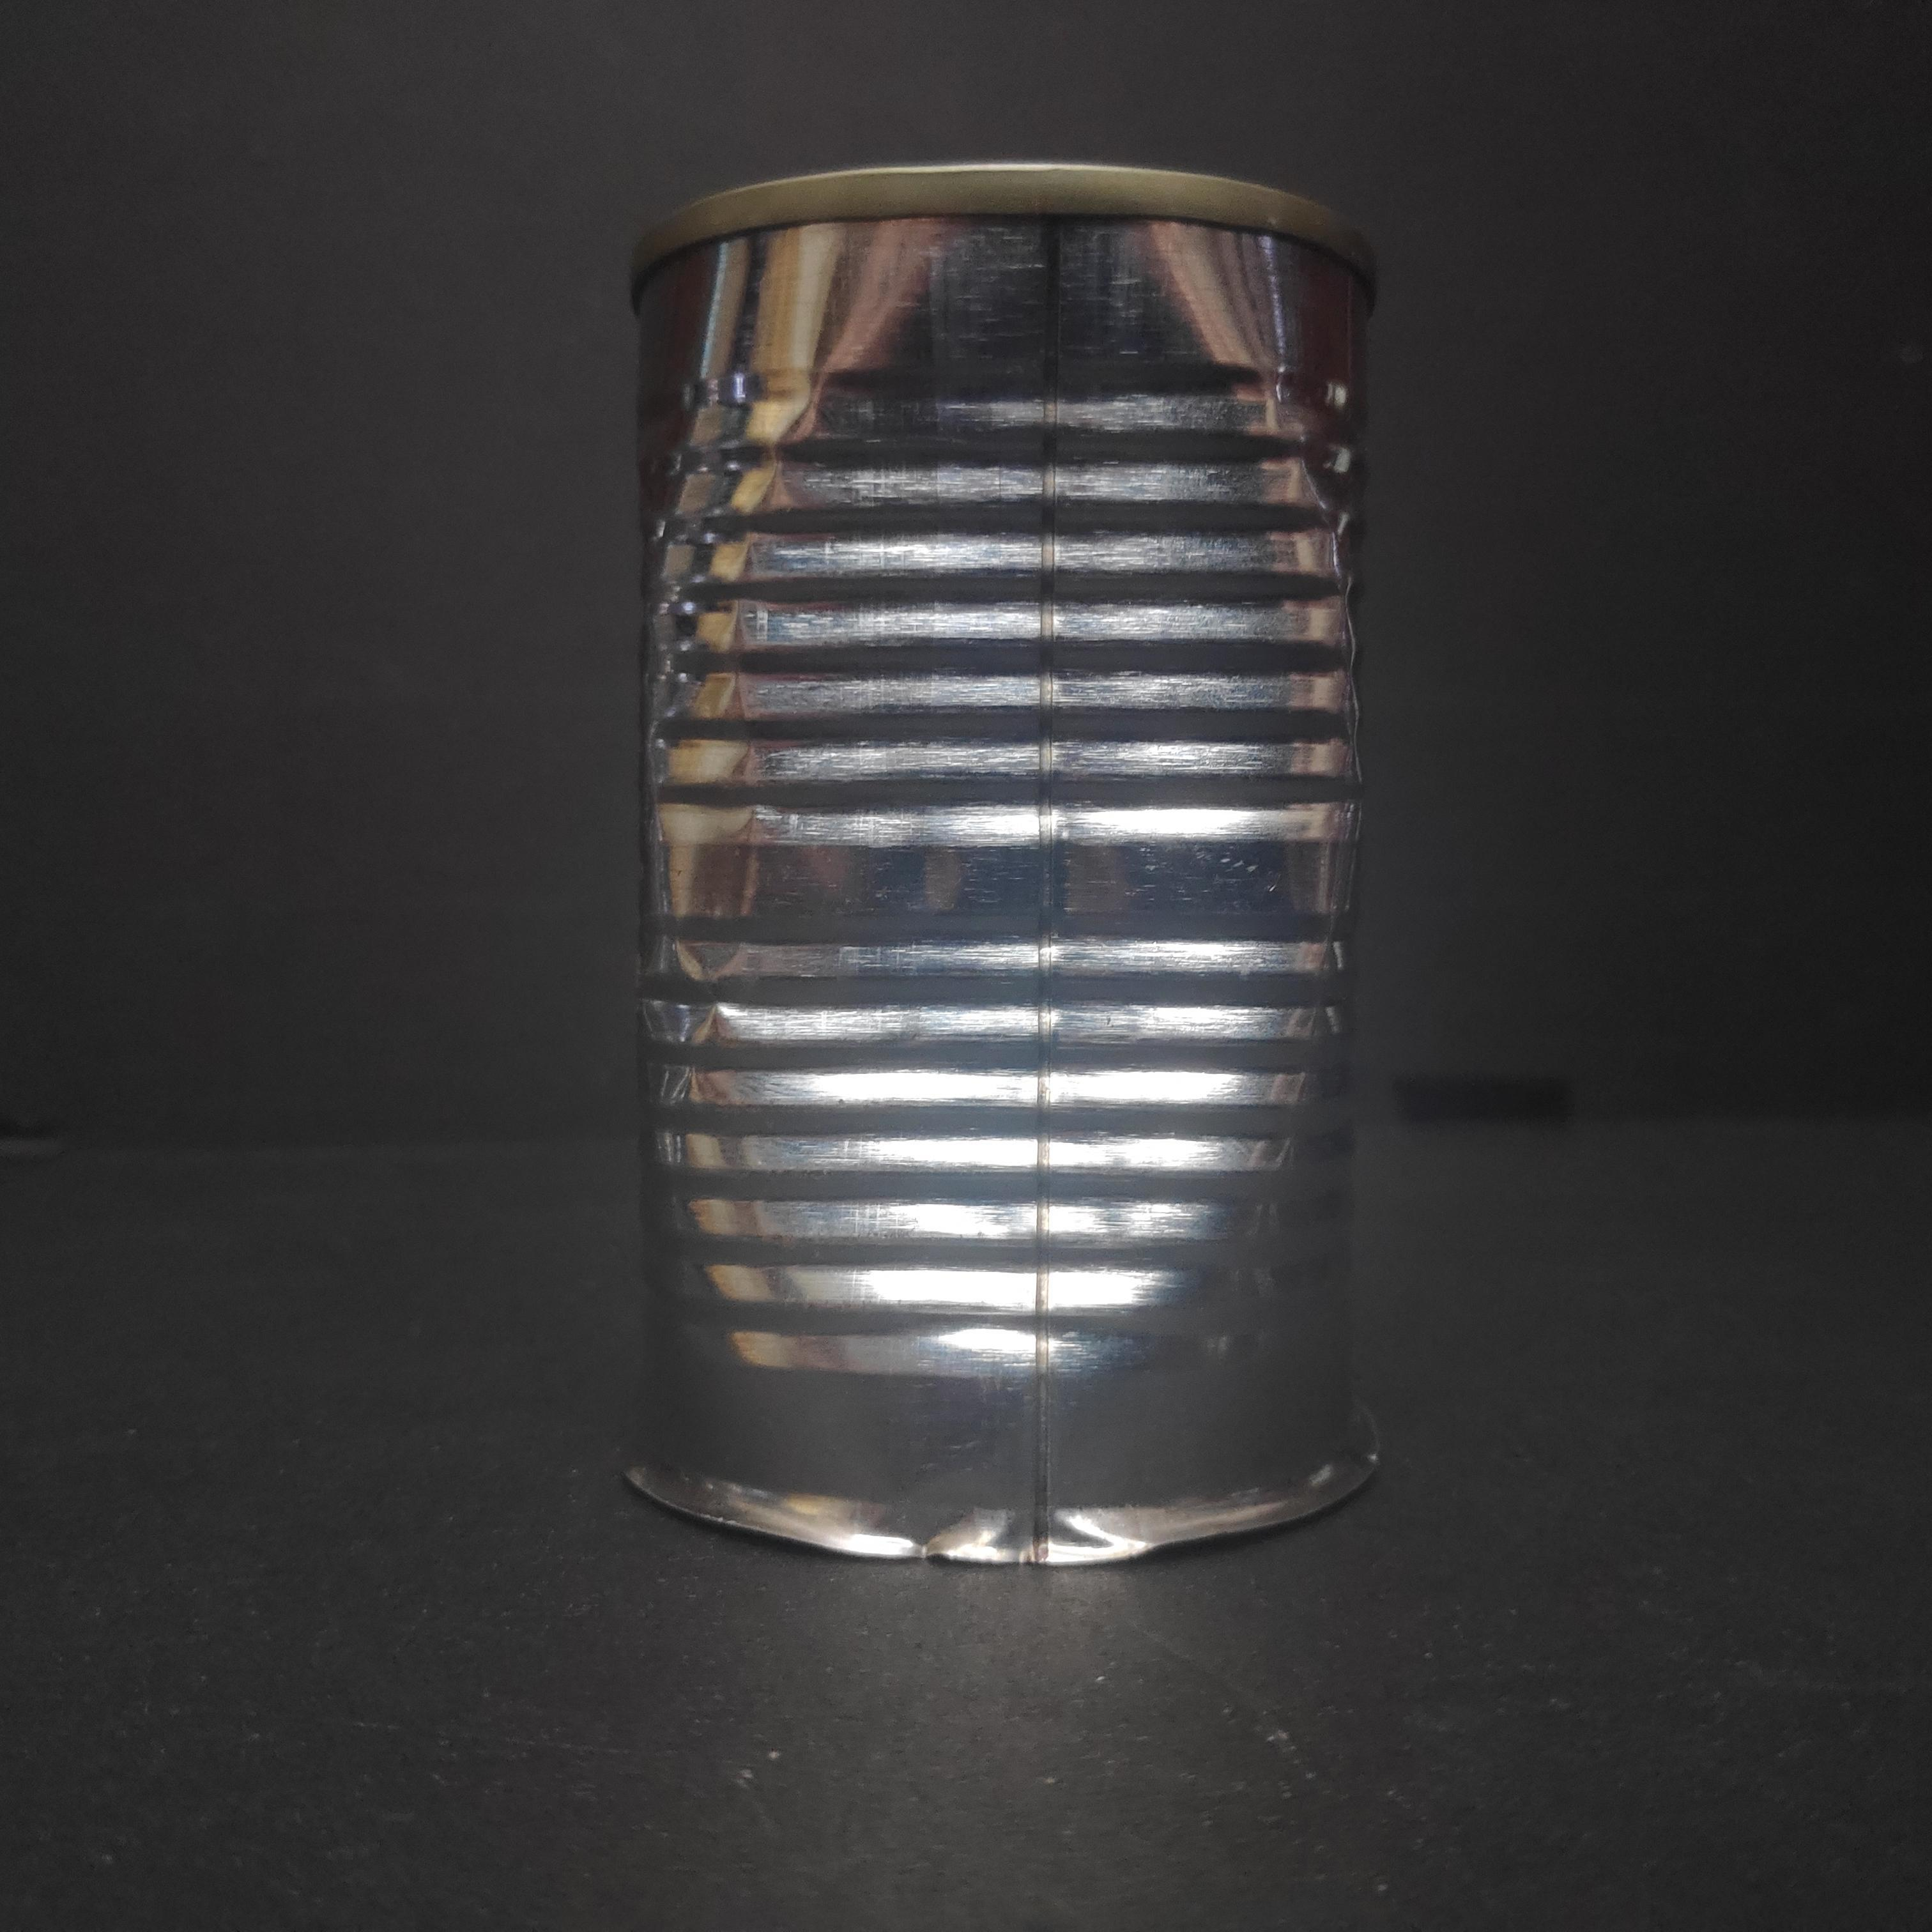Dented: (587, 127, 1424, 1591)
